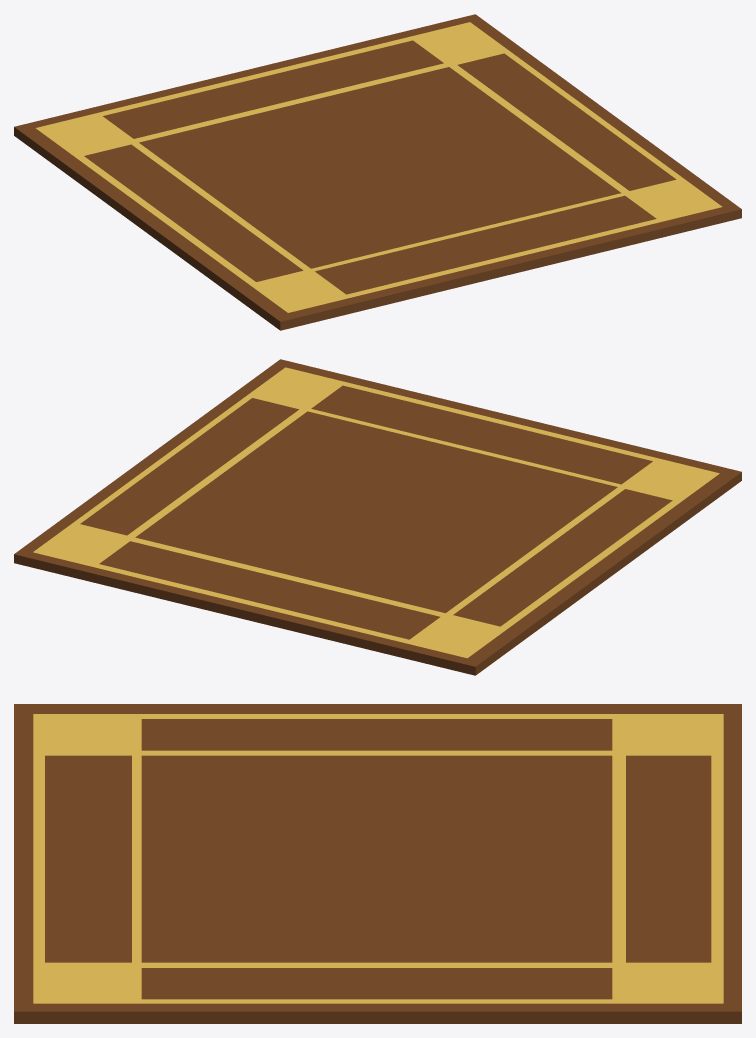
File: Carpet_2B.fbx
The picture shows the model from 3 angles, top to bottom: view 1: azimuth 30°, elevation 25°; view 2: azimuth 150°, elevation 25°; view 3: azimuth 270°, elevation 25°; orthographic projection. The views are drawn at different scales.
Parts seen in each view (by area): view 1: pPlane50; view 2: pPlane50; view 3: pPlane50.
Part boxes in pixels (box(x1,y1,x2,y2)): pPlane50: box(14, 14, 741, 330); pPlane50: box(14, 359, 741, 675); pPlane50: box(14, 704, 741, 1023).
Size of the model in its own units: 2.7 by 0.05 by 2.7.
Materials: 1 (1 with a texture image).
